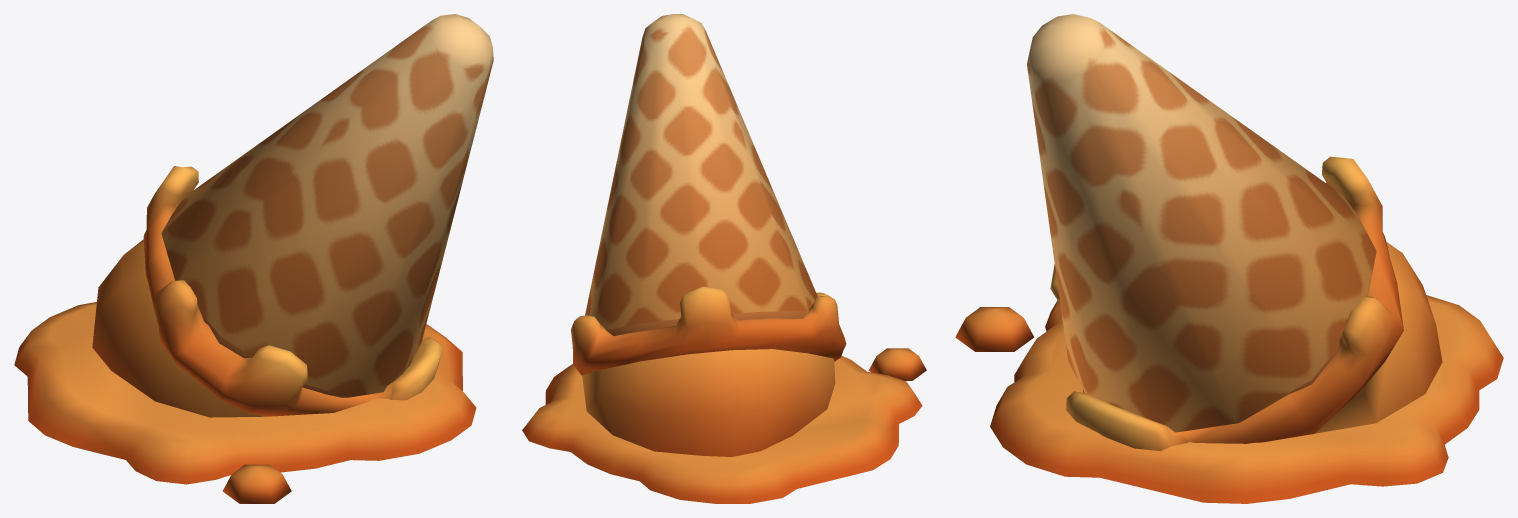
File: m_SpilledIceCream09.fbx
The picture shows the model from 3 angles, left to right: view 1: azimuth 30°, elevation 25°; view 2: azimuth 150°, elevation 25°; view 3: azimuth 270°, elevation 25°; orthographic projection. The views are drawn at different scales.
Parts seen in each view (by area): view 1: m_SpilledIceCream09; view 2: m_SpilledIceCream09; view 3: m_SpilledIceCream09.
Part boxes in pixels (left/top/right/bottom): m_SpilledIceCream09: left=14, top=14, right=493, bottom=503; m_SpilledIceCream09: left=522, top=14, right=926, bottom=503; m_SpilledIceCream09: left=955, top=14, right=1503, bottom=503.
Bounding box in the file's own units: 12.21 × 11.36 × 12.68.
